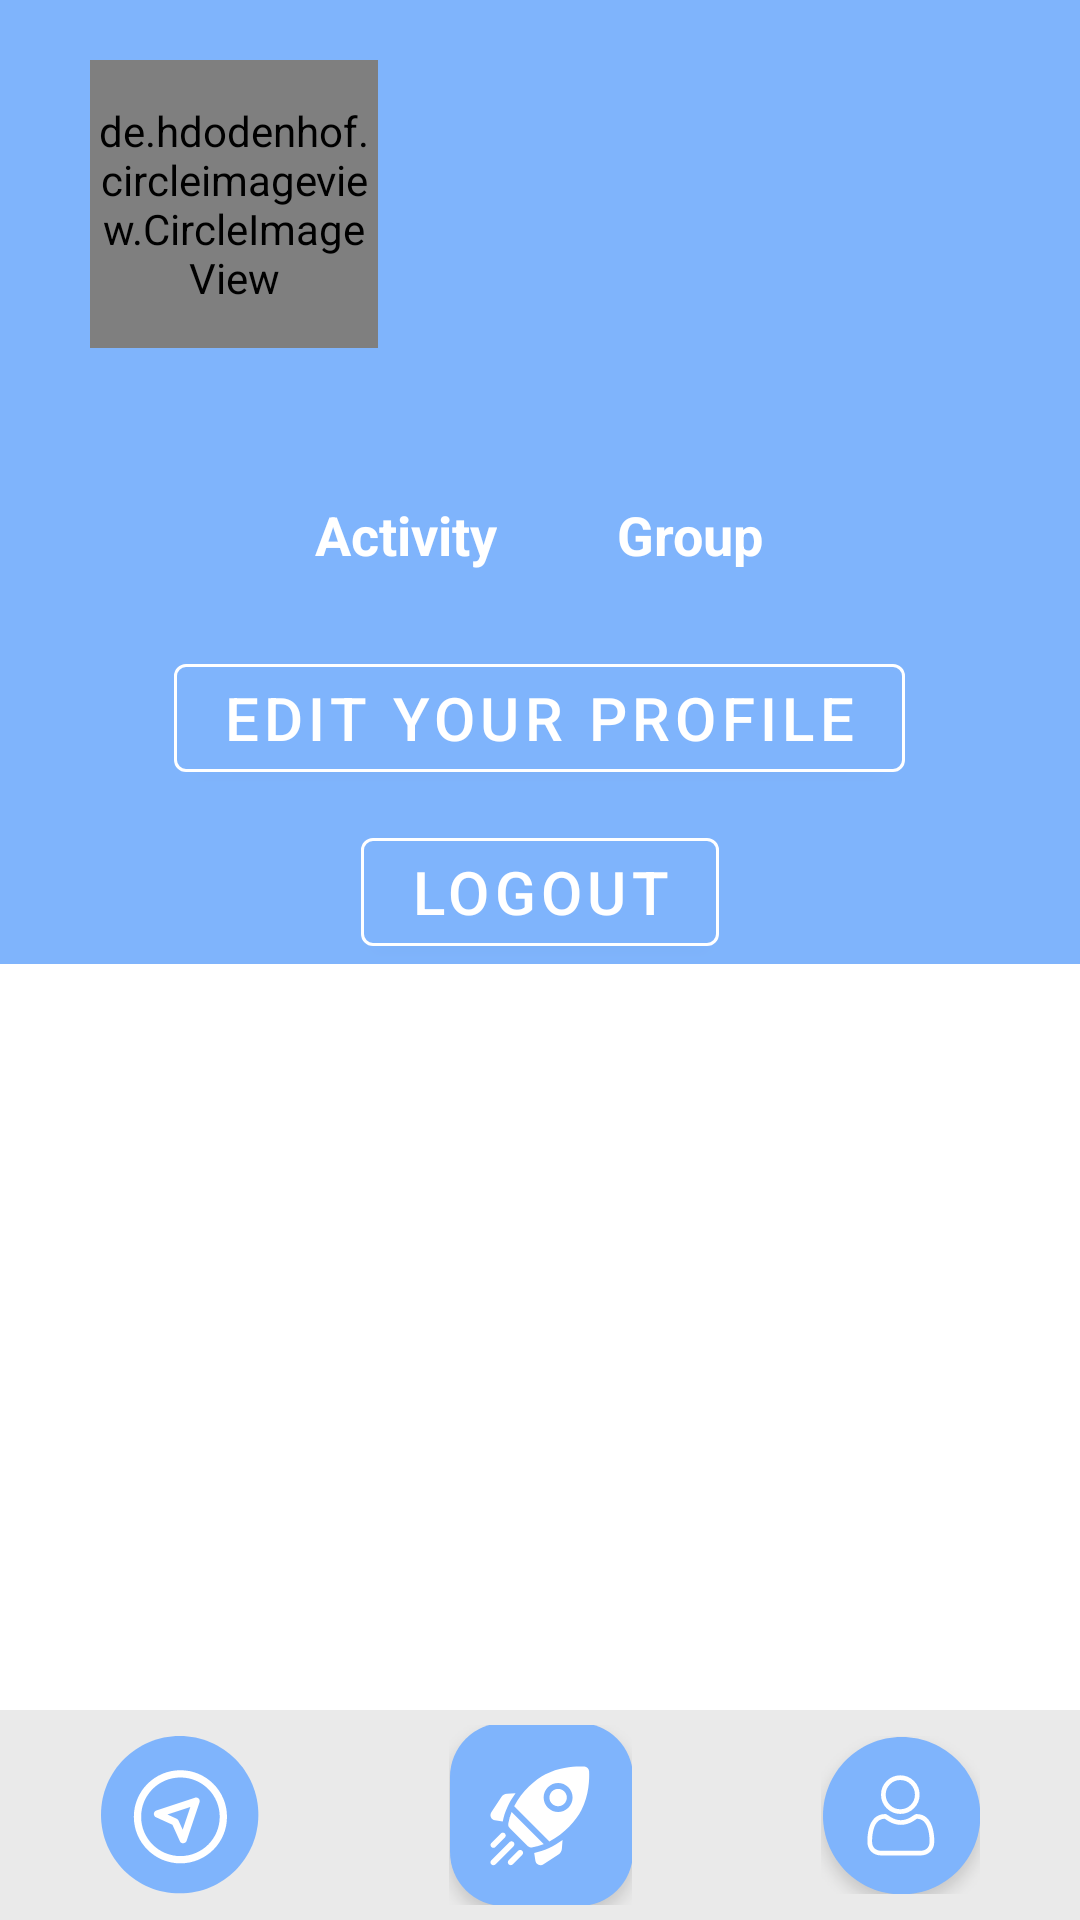

Screen size 1080px×1920px. Icon name, then its box in pixels as (x1, y1, x2, y2):
map: (101, 1736, 259, 1894)
profile: (823, 1737, 980, 1894)
start buttom: (450, 1725, 632, 1905)
